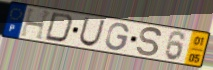6: (164, 30, 187, 62)
D: (43, 12, 75, 44)
G: (104, 22, 131, 52)
H: (19, 8, 54, 42)
S: (136, 26, 163, 58)
U: (78, 16, 107, 48)
